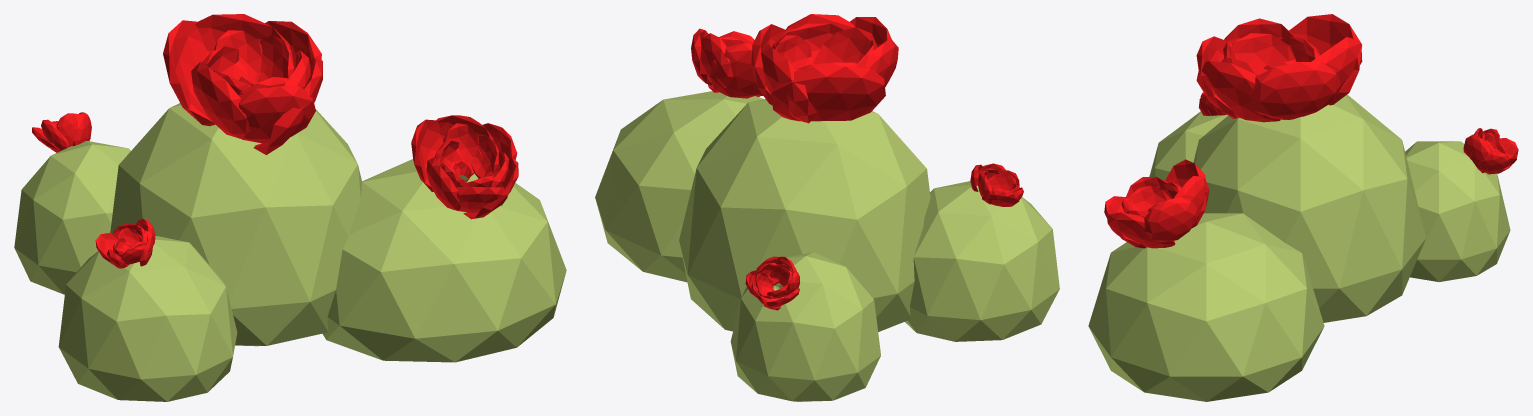
File: Cactus_V07.fbx
3 renders of one model, left to right at view 1: azimuth 30°, elevation 25°; view 2: azimuth 150°, elevation 25°; view 3: azimuth 270°, elevation 25°, orthographic. The views are drawn at different scales.
Parts seen in each view (by area): view 1: Cactus_V07; view 2: Cactus_V07; view 3: Cactus_V07.
Part boxes in pixels (box(x1,y1,x2,y2)): Cactus_V07: box(14, 14, 566, 401); Cactus_V07: box(595, 14, 1059, 401); Cactus_V07: box(1088, 14, 1518, 401).
Size of the model in its own units: 68.41 by 42.5 by 60.77.
